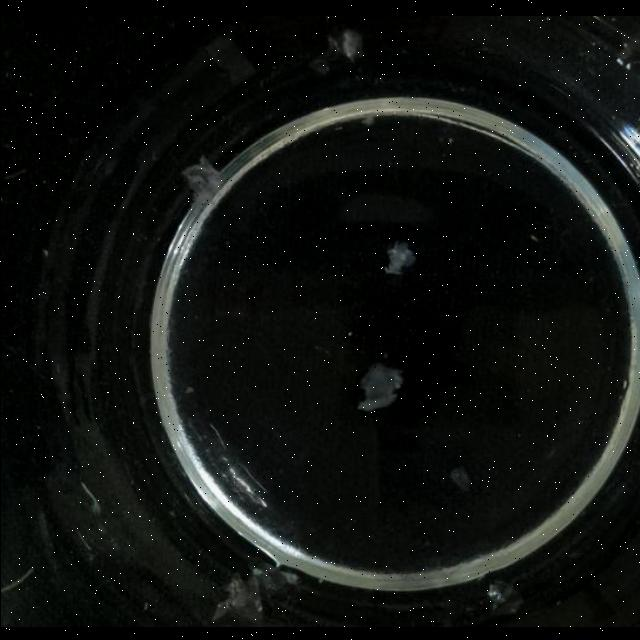Fibre: (212, 571, 264, 623), (180, 152, 223, 202), (316, 24, 362, 66), (482, 578, 522, 616), (78, 480, 100, 516), (448, 464, 470, 490), (359, 113, 375, 125), (184, 383, 194, 392), (621, 379, 627, 391), (42, 248, 48, 256)
Fragment: (354, 362, 404, 411), (381, 238, 415, 274)
